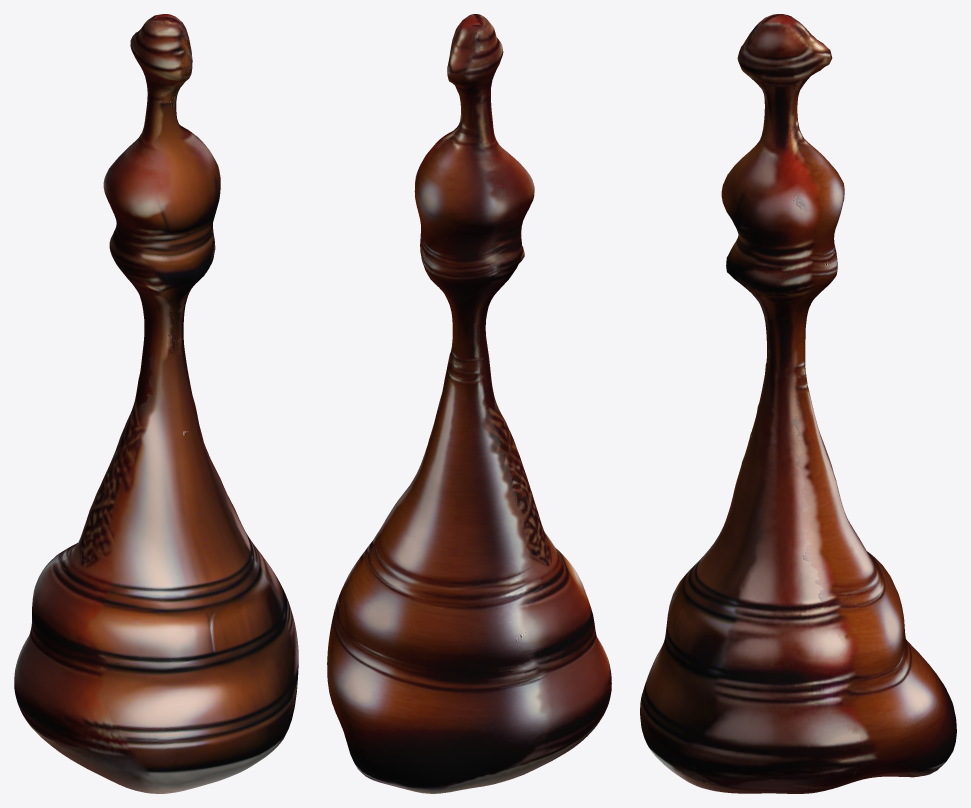
File: PriestModel.fbx
The picture shows the model from 3 angles, left to right: view 1: azimuth 30°, elevation 25°; view 2: azimuth 150°, elevation 25°; view 3: azimuth 270°, elevation 25°; orthographic projection. The views are drawn at different scales.
Visible parts, largest first — view 1: Description: The obj-re_2hKauCFJXmGjcrhXkX8A2aYxFlj; view 2: Description: The obj-re_2hKauCFJXmGjcrhXkX8A2aYxFlj; view 3: Description: The obj-re_2hKauCFJXmGjcrhXkX8A2aYxFlj.
Boxes of the visible parts, <box> form: Description: The obj-re_2hKauCFJXmGjcrhXkX8A2aYxFlj: <box>14,14,298,793</box>; Description: The obj-re_2hKauCFJXmGjcrhXkX8A2aYxFlj: <box>327,14,611,793</box>; Description: The obj-re_2hKauCFJXmGjcrhXkX8A2aYxFlj: <box>640,14,956,793</box>.
Size of the model in its own units: 38.82 by 109 by 41.35.
1 material, 1 textured.
